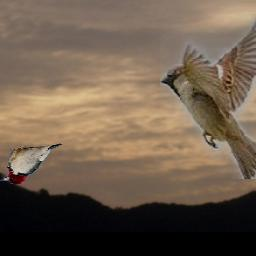Sparrow: (161, 15, 256, 180)
Woodpecker: (0, 144, 62, 185)
